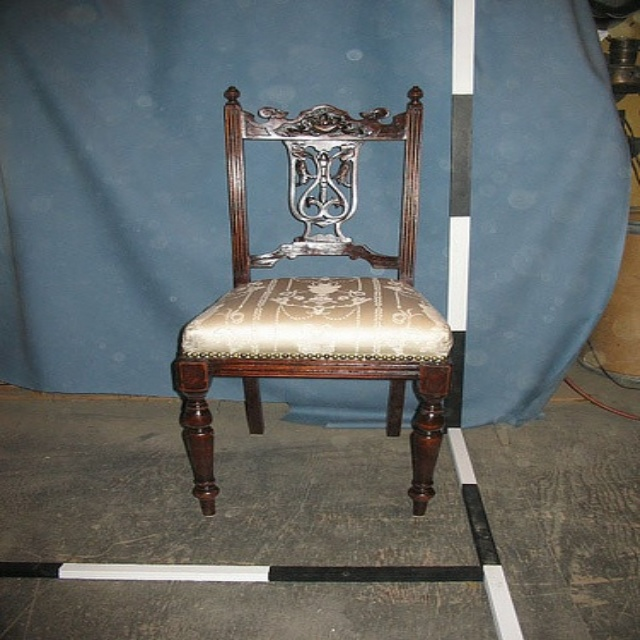obstacle: (172, 86, 451, 515)
